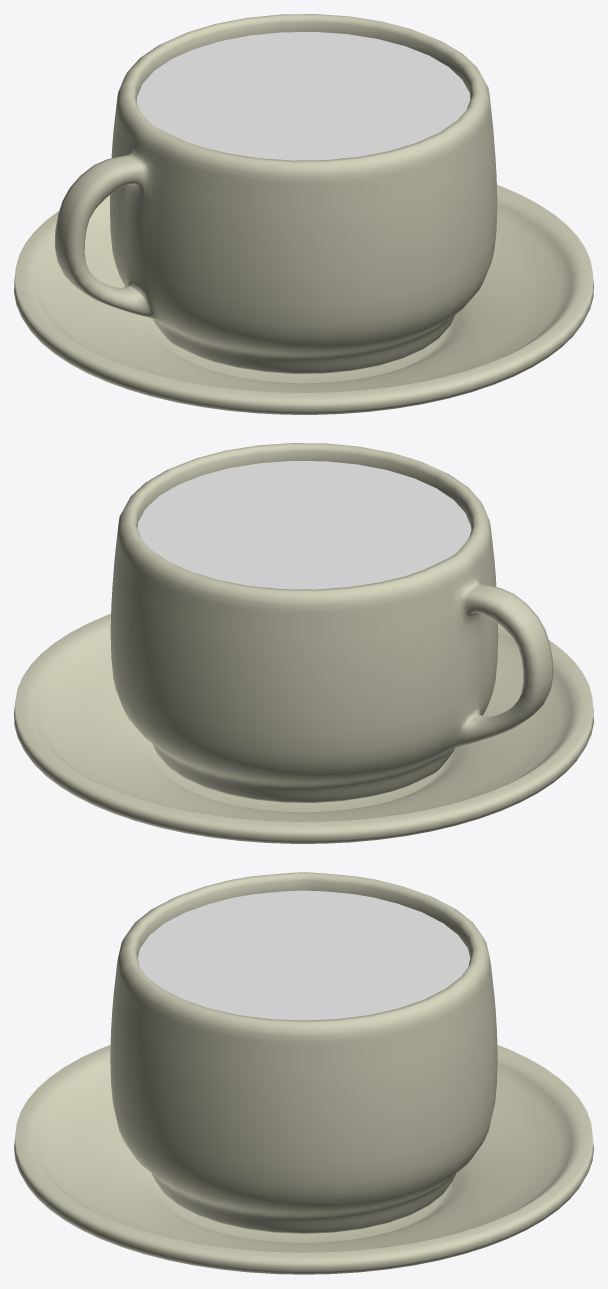
Rendered from coffee3.fbx.
3 views of the same model, one above another, from view 1: azimuth 30°, elevation 25°; view 2: azimuth 150°, elevation 25°; view 3: azimuth 270°, elevation 25° (orthographic).
Parts seen in each view (by area): view 1: cup, saucer, coffee; view 2: cup, saucer, coffee; view 3: cup, saucer, coffee.
Boxes of the visible parts, left/top/right/bottom form: cup: left=54, top=14, right=497, bottom=373; saucer: left=14, top=185, right=593, bottom=414; coffee: left=136, top=32, right=470, bottom=160; cup: left=110, top=443, right=553, bottom=802; saucer: left=14, top=614, right=593, bottom=843; coffee: left=137, top=461, right=471, bottom=589; cup: left=110, top=872, right=497, bottom=1233; saucer: left=14, top=1045, right=593, bottom=1274; coffee: left=137, top=890, right=470, bottom=1020.
Bounding box in the file's own units: 216 × 103 × 216.
